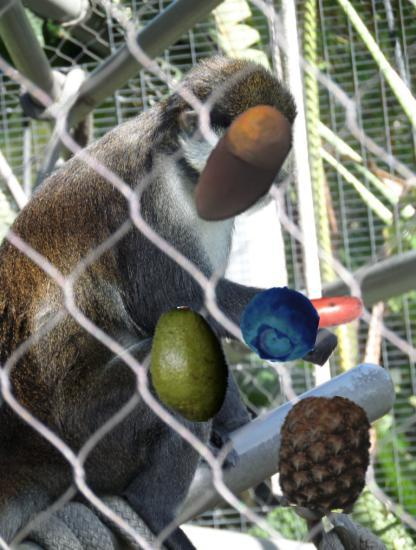Avocado: (130, 306, 249, 425)
Banana: (266, 262, 365, 361)
Hazelnut: (174, 97, 313, 236)
Huckleberry: (241, 286, 318, 363)
Pineapple: (268, 395, 383, 510)
